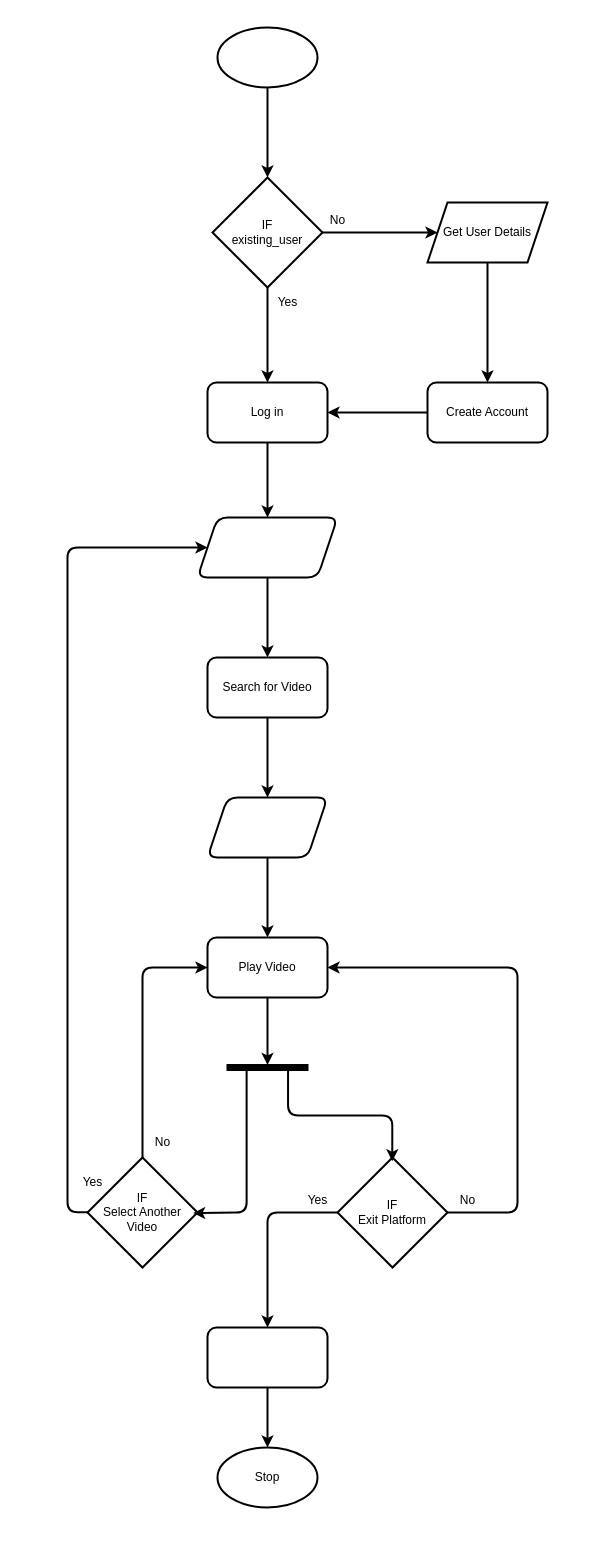
Image size: 604x1544. Some labels were removed from this diagram. The centre of each missing label's shape, as x and y in pixels:
"Exit Platform" belongs at pixel 267 1357.
"Get Video_Details" belongs at pixel 267 547.
"Select Video" belongs at pixel 267 827.
"Start" belongs at pixel 267 57.
